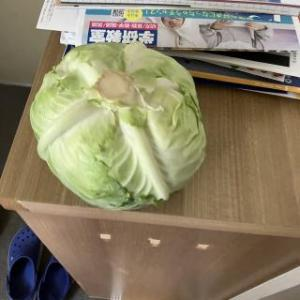cabbage: (28, 40, 208, 214)
